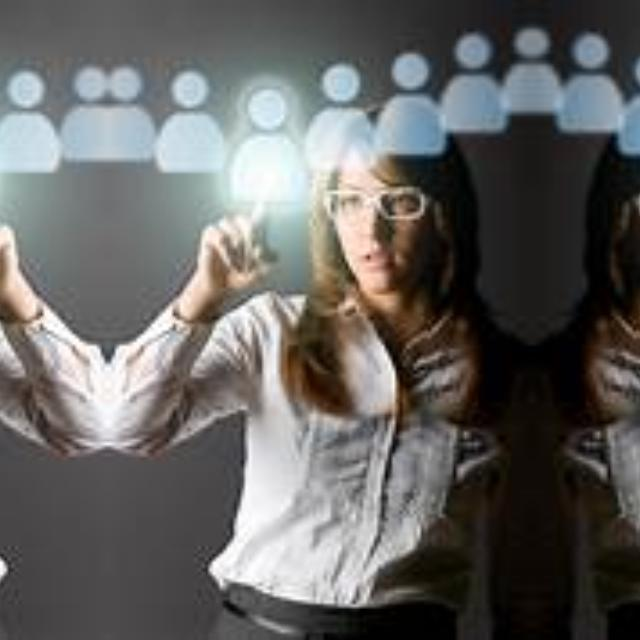person: (164, 100, 492, 640), (571, 100, 640, 640), (0, 100, 49, 640)
